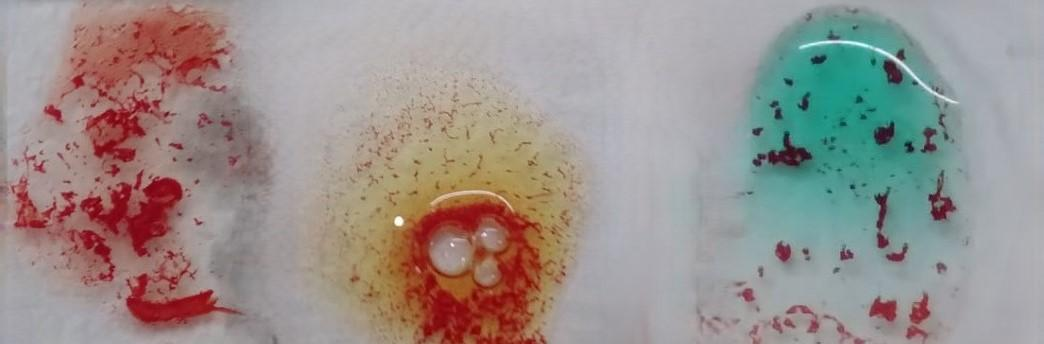A: (744, 15, 959, 343)
B: (322, 95, 594, 344)
D: (21, 11, 257, 335)
